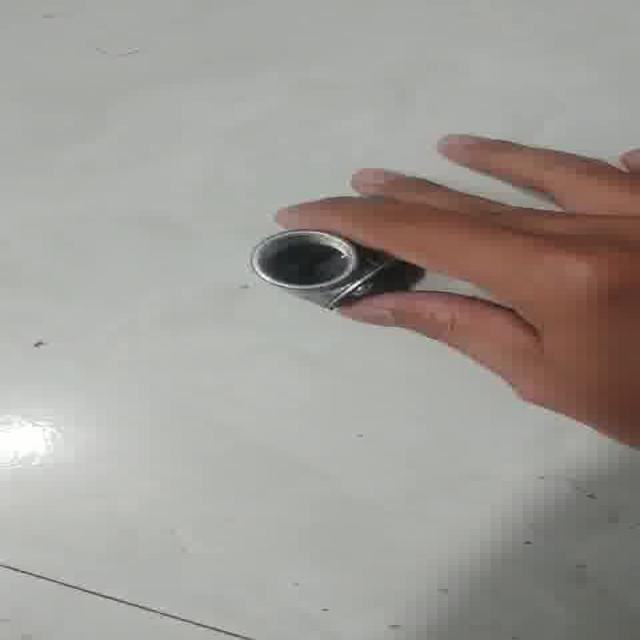Dry Waste: (262, 234, 422, 302)
